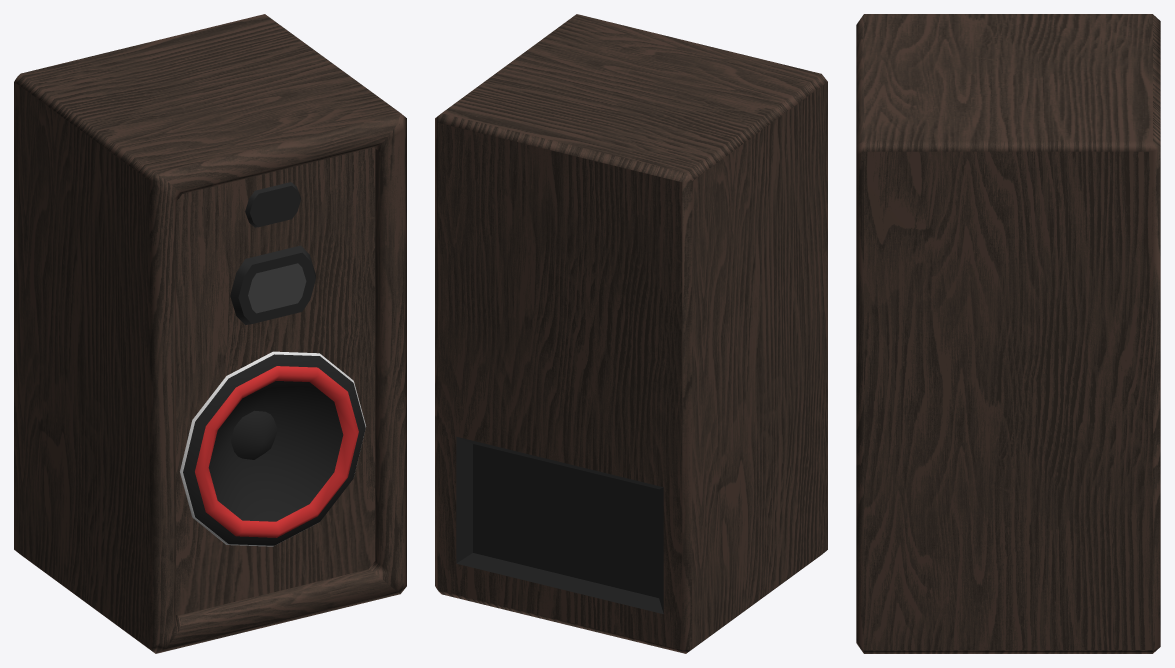
File: entertainment_008.fbx
The picture shows the model from 3 angles, left to right: view 1: azimuth 30°, elevation 25°; view 2: azimuth 150°, elevation 25°; view 3: azimuth 270°, elevation 25°; orthographic projection. The views are drawn at different scales.
Visible parts, largest first — view 1: entertainment_008; view 2: entertainment_008; view 3: entertainment_008.
Boxes of the visible parts, x1,y1,x2,y2 form: entertainment_008: (14,14,406,653); entertainment_008: (435,14,827,653); entertainment_008: (856,14,1160,653).
Bounding box in the file's own units: 56.53 × 54.34 × 101.
